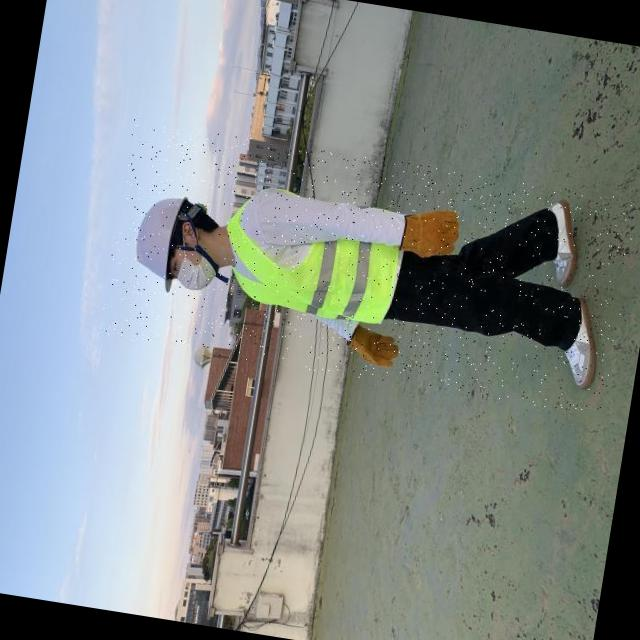hard_hat: (124, 184, 194, 302)
safety_vest: (217, 182, 416, 332)
vehicle: (99, 120, 638, 416)
work_boots: (539, 292, 616, 404), (530, 184, 596, 296)
